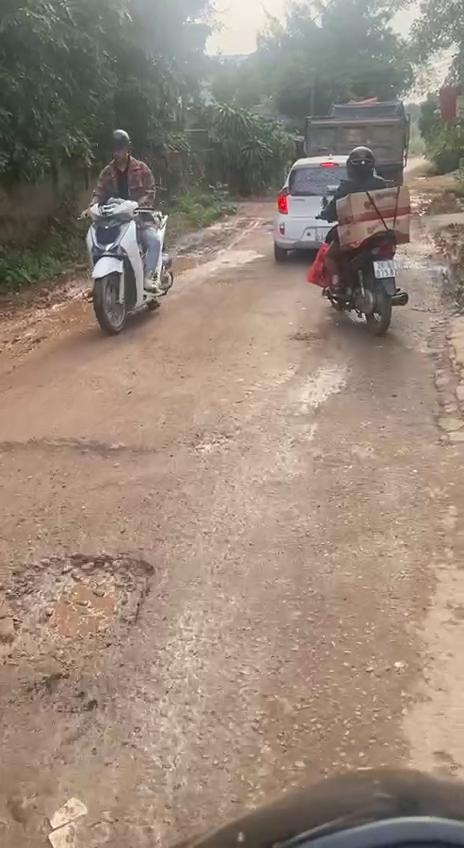pothole: (0, 542, 158, 718), (0, 422, 212, 518)
